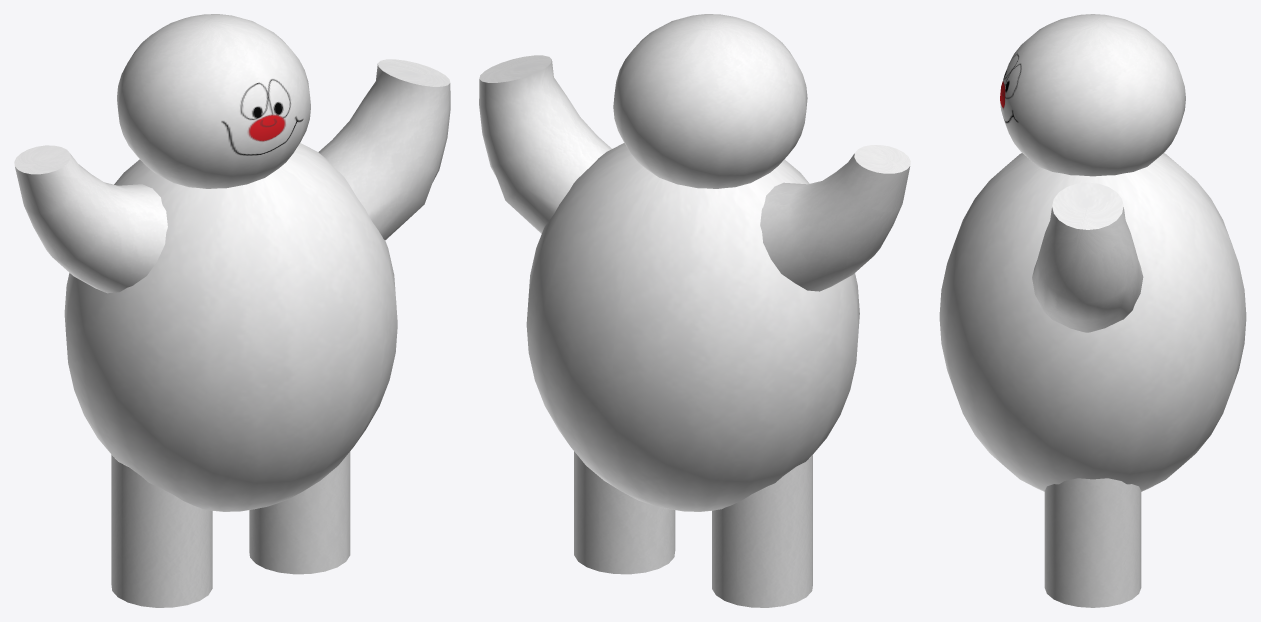
File: snowman_animated_bake_NOHAT.fbx
The picture shows the model from 3 angles, left to right: view 1: azimuth 30°, elevation 25°; view 2: azimuth 150°, elevation 25°; view 3: azimuth 270°, elevation 25°; orthographic projection. The views are drawn at different scales.
Parts seen in each view (by area): view 1: polySurface2; view 2: polySurface2; view 3: polySurface2.
Boxes of the visible parts, x1=… form: polySurface2: x1=14, y1=14, x2=450, y2=607; polySurface2: x1=479, y1=14, x2=910, y2=607; polySurface2: x1=939, y1=14, x2=1246, y2=607.
Size of the model in its own units: 5.38 by 6.65 by 3.53.
